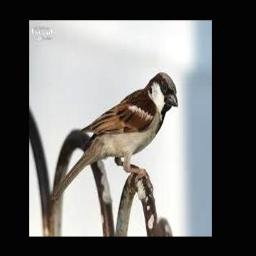Sparrow: (51, 73, 178, 204)
